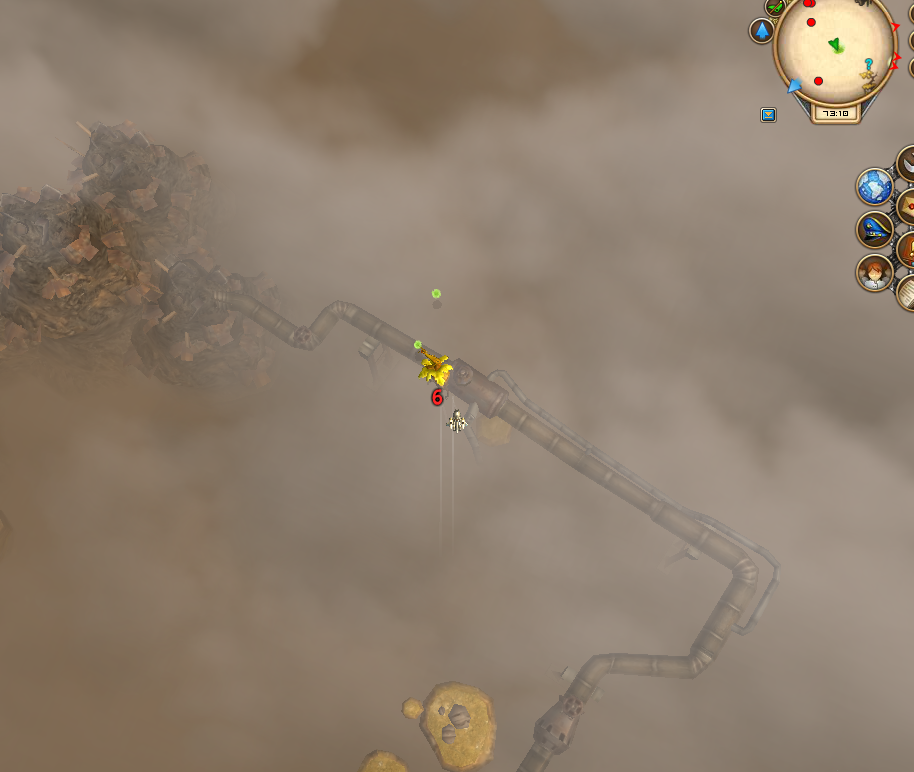dandelion-full: (410, 337, 455, 389)
fluff: (429, 286, 442, 302)
